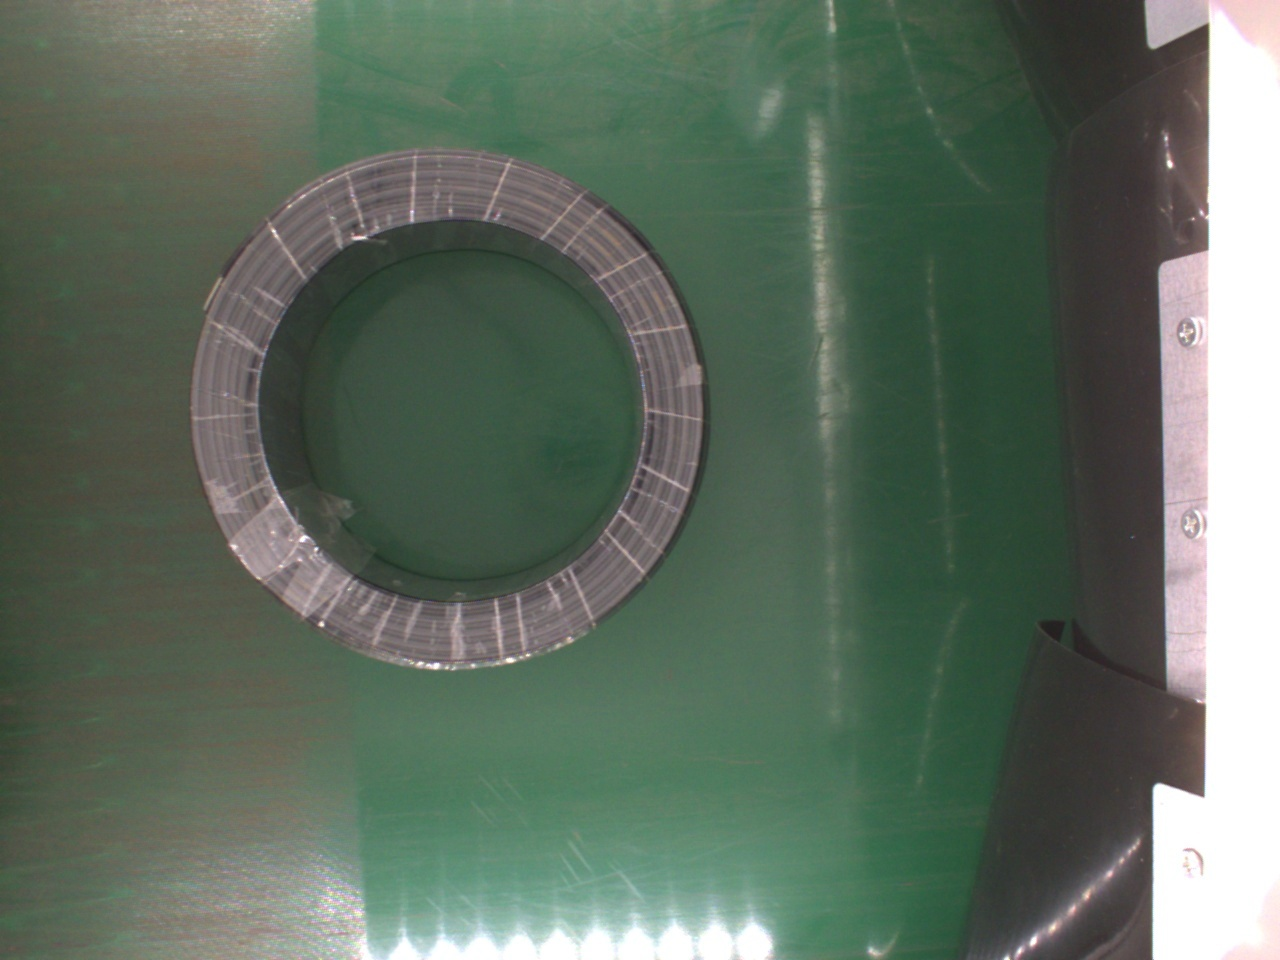black: (188, 150, 706, 669)
